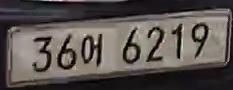1: (168, 21, 188, 61)
2: (144, 24, 167, 63)
3: (29, 34, 55, 74)
6: (119, 26, 145, 67), (56, 32, 79, 71)
9: (188, 21, 212, 60)
어: (79, 31, 106, 69)
